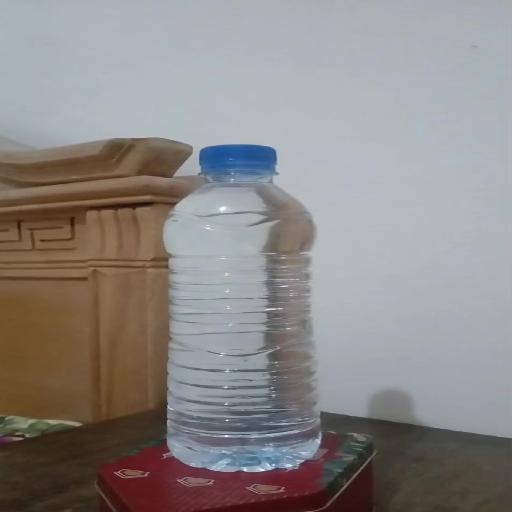bouteille non conformite: (155, 140, 358, 490), (100, 263, 380, 341)
